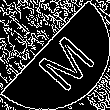M_NW: (20, 21, 90, 89)
